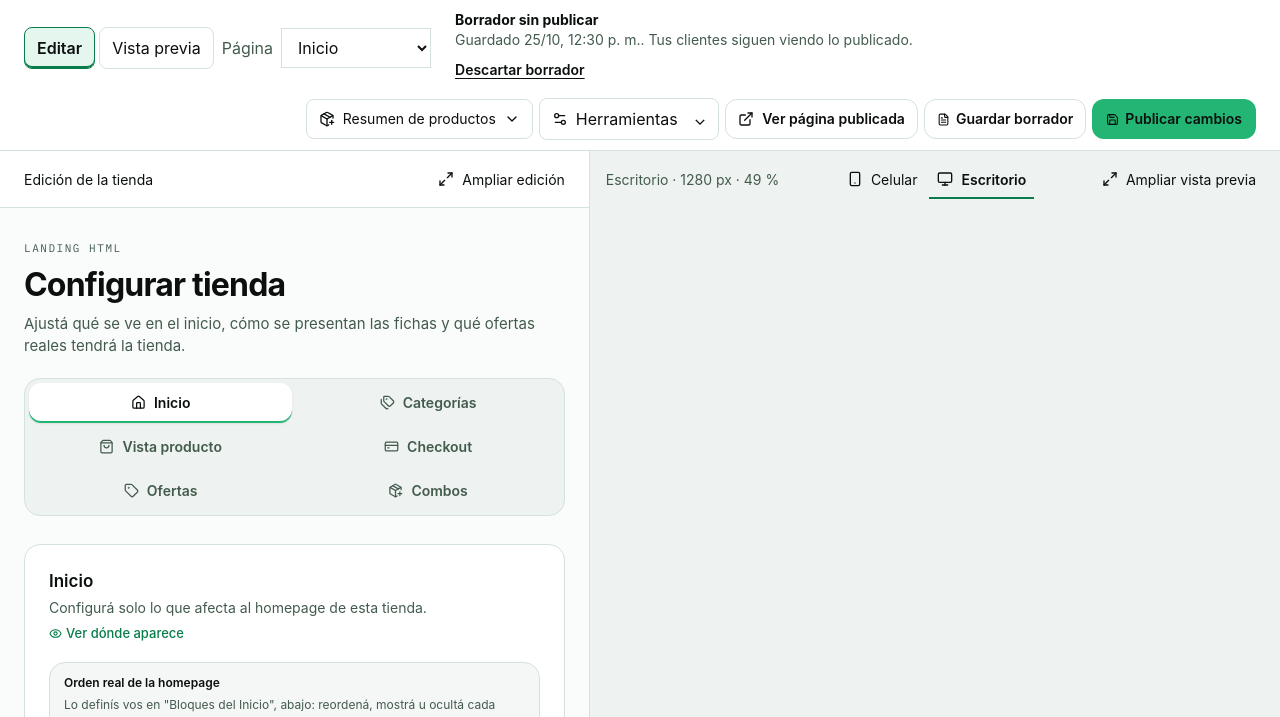
Scenario: Borrador del editor de la tienda › al reabrir recupera el borrador y Publicar cambios lo aplica y lo limpia
This screenshot has width=1280, height=717.
Check: the text "Borrador sin publicar" is shown, box x1=455 y1=11 x2=598 y2=28
Click the button "Publicar cambios": click(1174, 119) x1=1092 y1=99 x2=1256 y2=139
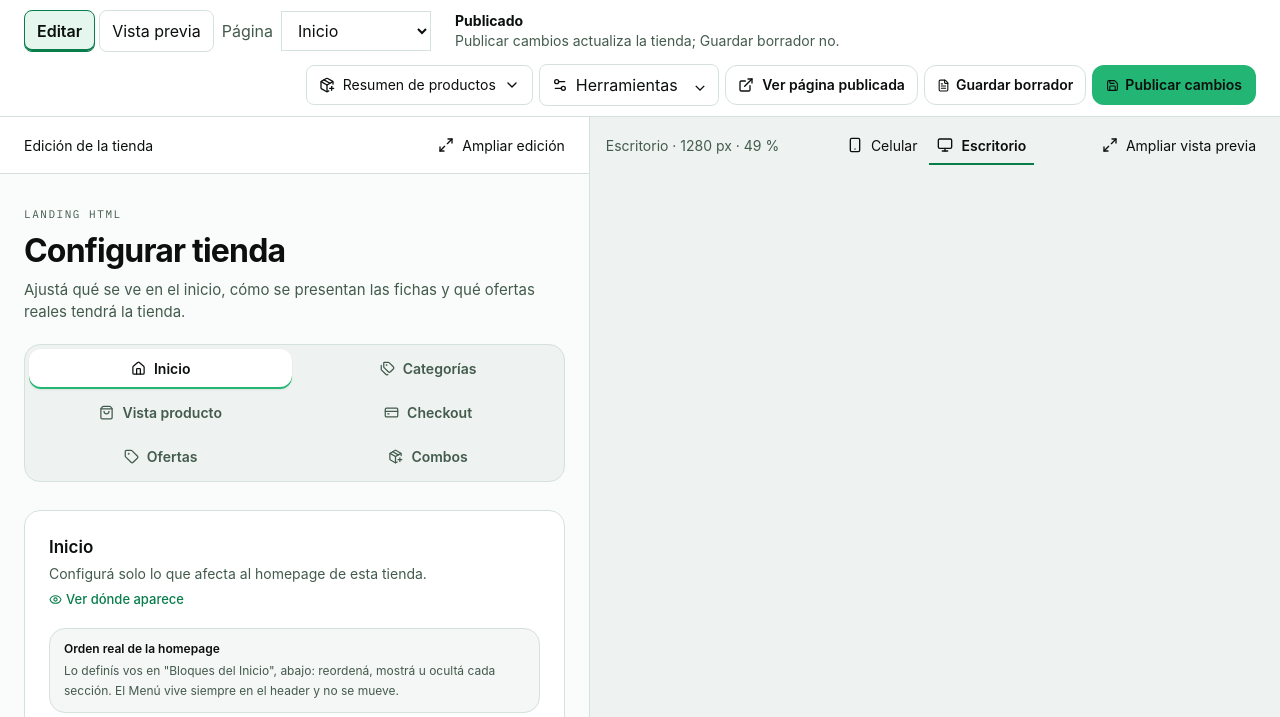
Check: the text "Borrador sin publicar" is gone
